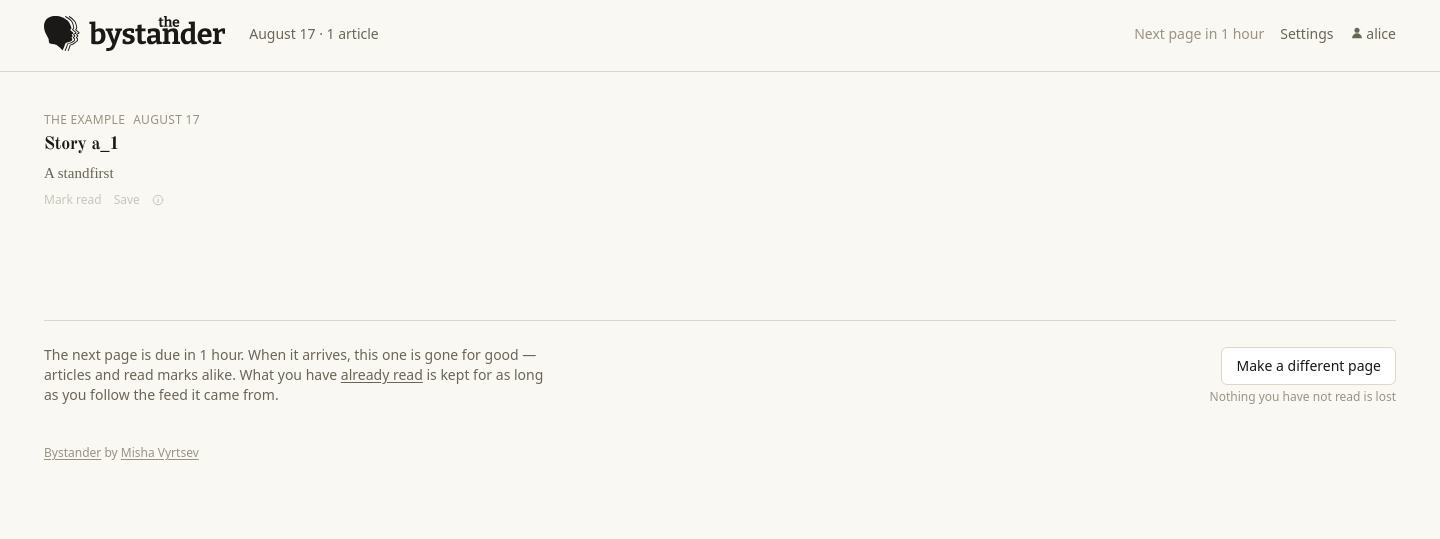
Test: ReaderPage › says so when the new page is entirely things already read
This screenshot has width=1440, height=539.
Expected: the link "Story a_1" is shown, x1=44 y1=135 x2=120 y2=153
Click the button "Make a different page" at [1309, 366], box x1=1222 y1=347 x2=1396 y2=385
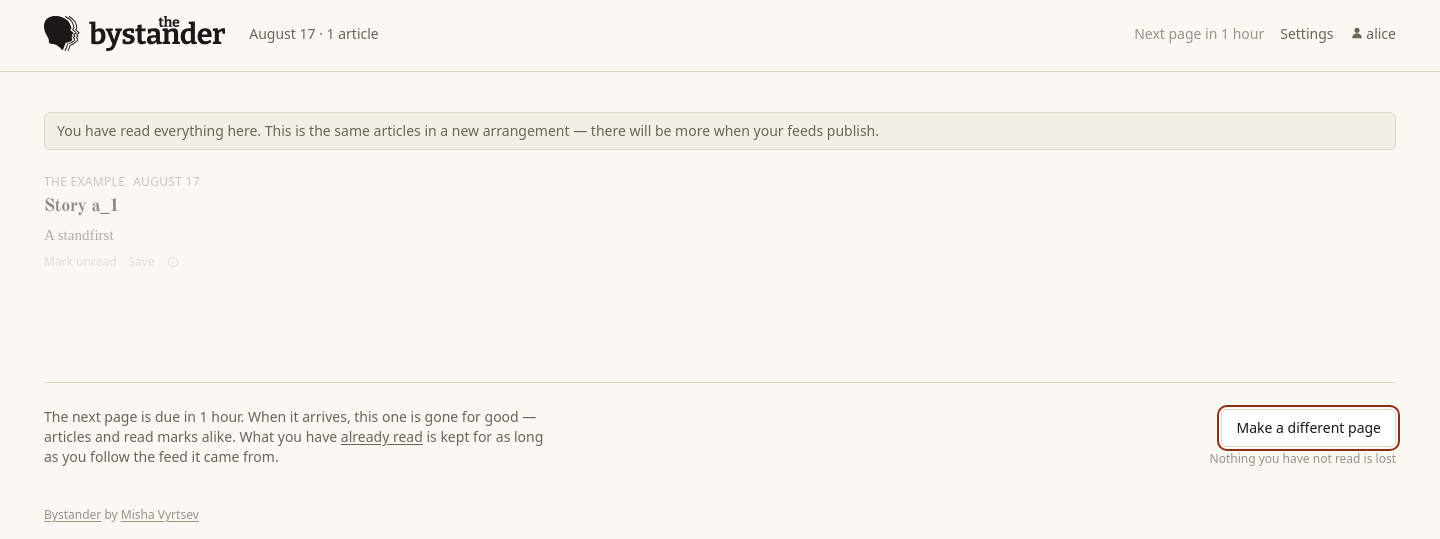
Now the text "You have read everything here" is shown, box x1=57 y1=121 x2=879 y2=140
